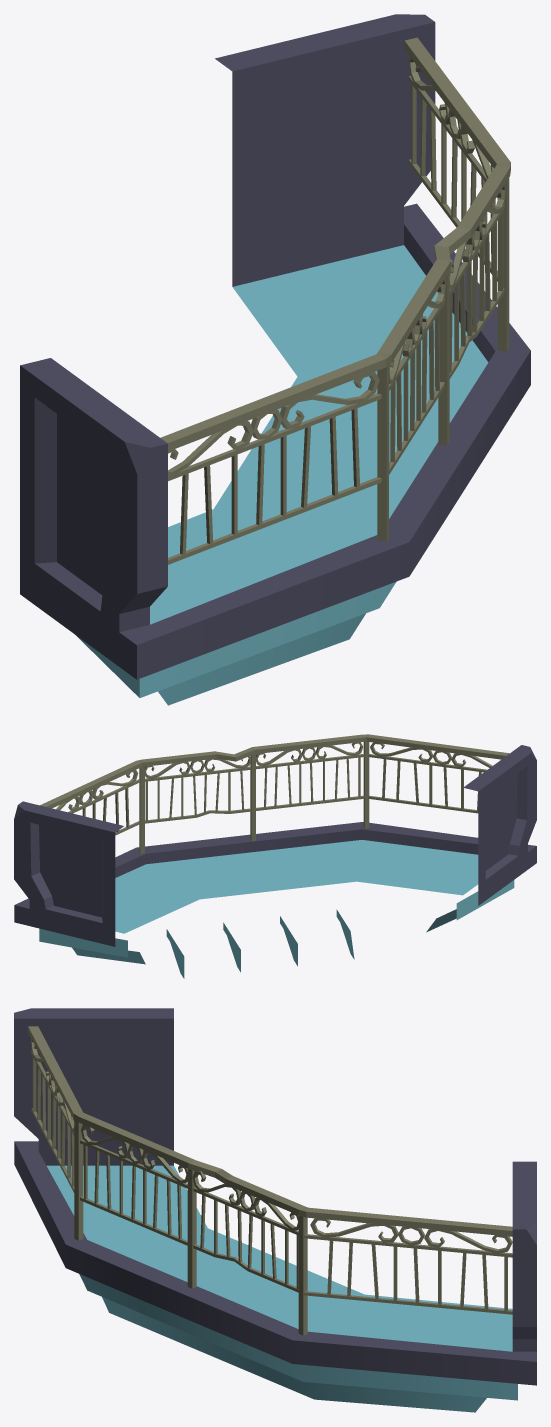
File: SM_Bld_Cuba_Balcony_Corner_01.glb
3 renders of one model, top to bottom at view 1: azimuth 30°, elevation 25°; view 2: azimuth 150°, elevation 25°; view 3: azimuth 270°, elevation 25°, orthographic. The views are drawn at different scales.
Visible parts, largest first — view 1: SM_Bld_Cuba_Balcony_Corner_01; view 2: SM_Bld_Cuba_Balcony_Corner_01; view 3: SM_Bld_Cuba_Balcony_Corner_01.
Part boxes in pixels (x1=…): SM_Bld_Cuba_Balcony_Corner_01: x1=20, y1=14, x2=530, y2=705; SM_Bld_Cuba_Balcony_Corner_01: x1=14, y1=734, x2=536, y2=978; SM_Bld_Cuba_Balcony_Corner_01: x1=14, y1=1008, x2=536, y2=1412.
Bounding box in the file's own units: 0.0279 × 0.0142 × 0.0279.
